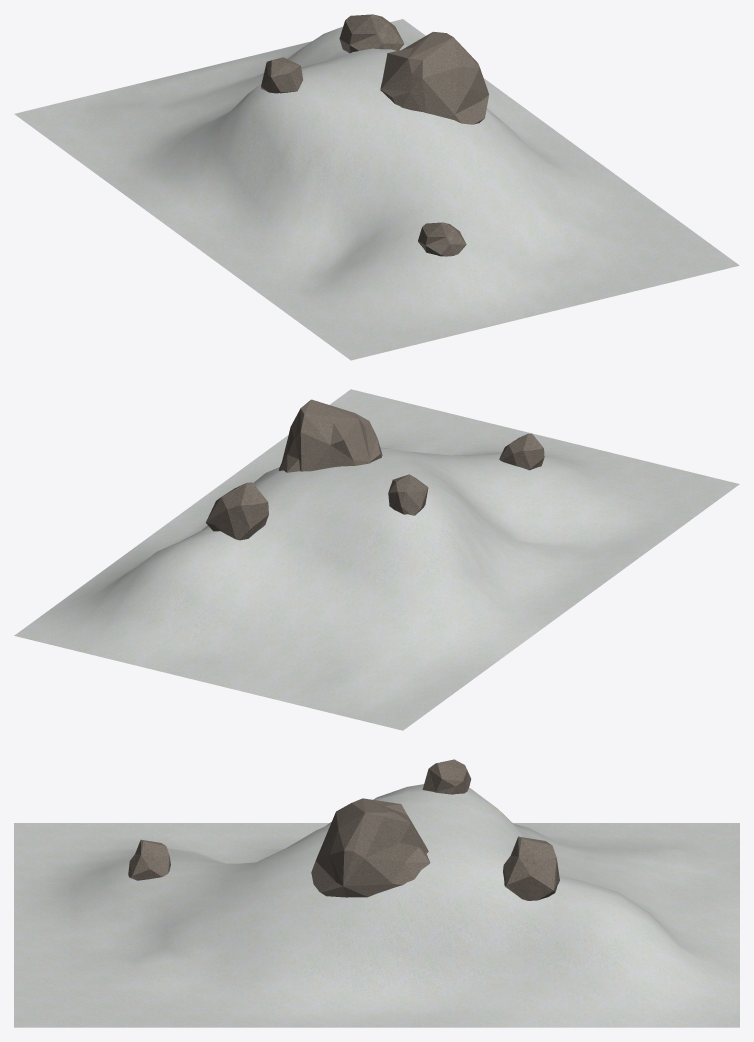
Rendered from bigbox_5.obj.
The picture shows the model from 3 angles, top to bottom: view 1: azimuth 30°, elevation 25°; view 2: azimuth 150°, elevation 25°; view 3: azimuth 270°, elevation 25°; orthographic projection. The views are drawn at different scales.
Parts seen in each view (by area): view 1: bigbox_5_Cube.119; view 2: bigbox_5_Cube.119; view 3: bigbox_5_Cube.119.
Part boxes in pixels (x1,y1,x2,y2): bigbox_5_Cube.119: (14,14,739,360); bigbox_5_Cube.119: (14,389,739,730); bigbox_5_Cube.119: (14,759,739,1027).
Size of the model in its own units: 1024 by 358 by 1536.
